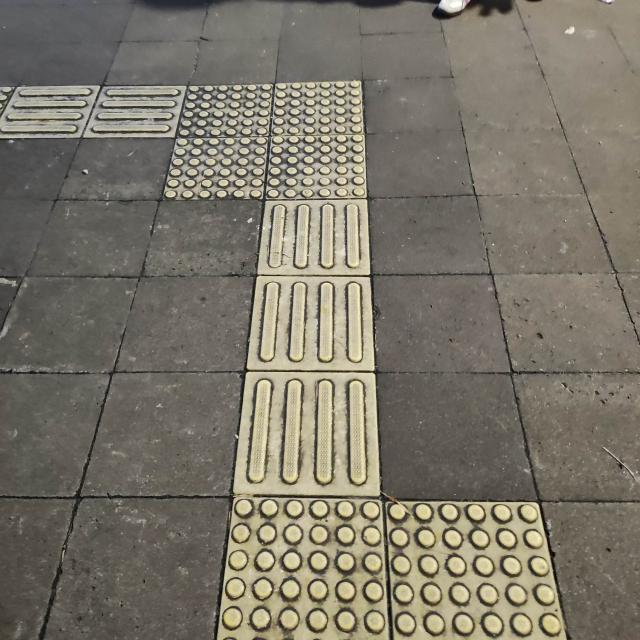kiri: (31, 52, 421, 270)
